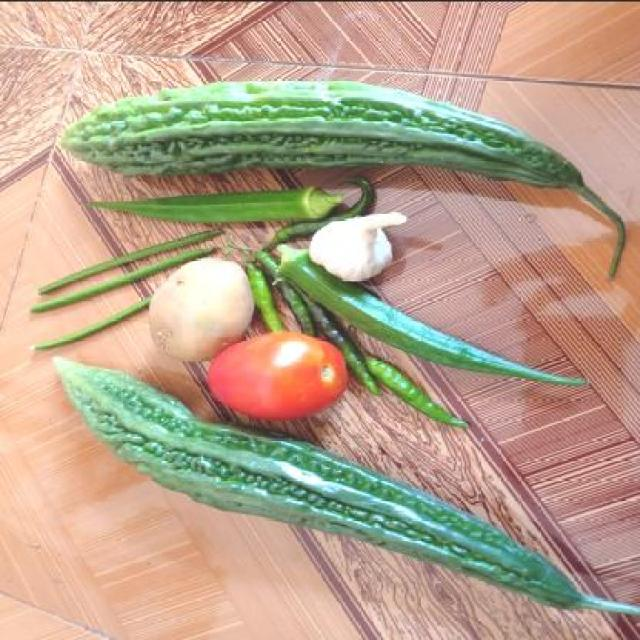Bitter melon: (58, 83, 584, 182), (60, 358, 206, 484)
Garlic: (311, 214, 406, 283)
Green Chili: (360, 359, 465, 426), (249, 257, 291, 326)
Lady finger: (90, 189, 332, 220)
Potato: (151, 254, 249, 358)
Tomato: (209, 332, 348, 422)
